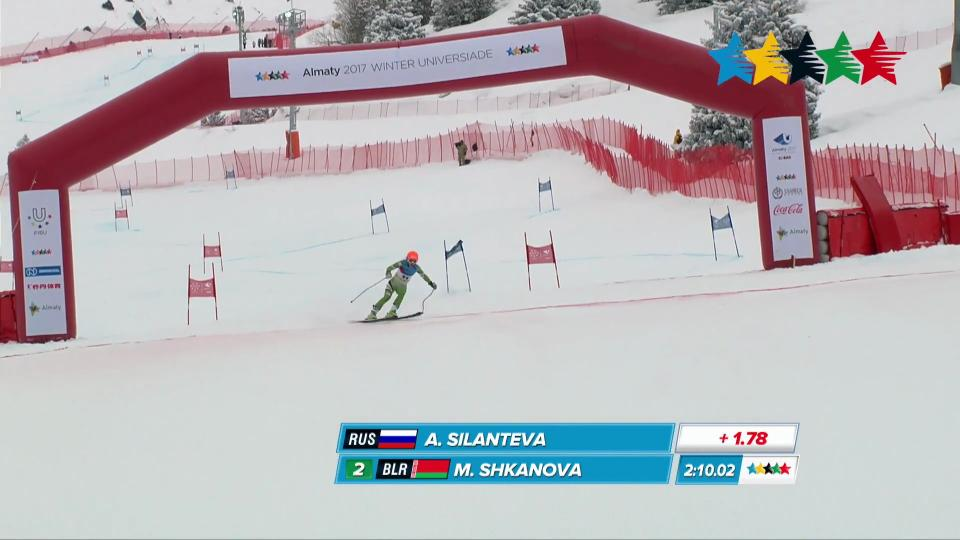gate: (547, 225, 572, 298), (518, 232, 545, 294), (183, 255, 195, 333), (210, 262, 222, 322)
